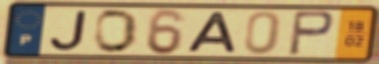0: (242, 9, 284, 57)
6: (143, 7, 188, 57)
A: (184, 10, 239, 55)
J: (48, 9, 90, 53)
O: (93, 8, 141, 55)
P: (285, 10, 337, 58)
